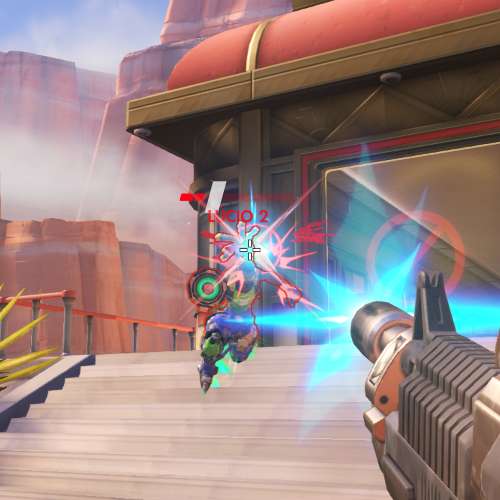hpbar: (179, 193, 296, 201)
